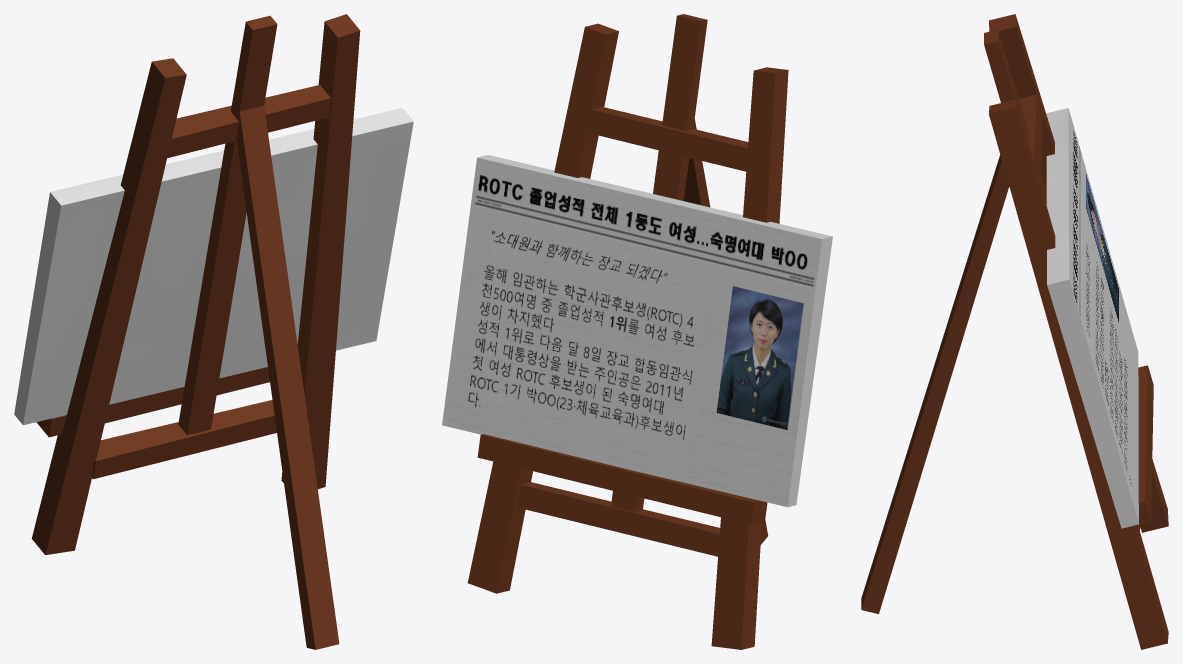
Rendered from SM_BaekjunyeonBoard.FBX.
3 renders of one model, left to right at view 1: azimuth 30°, elevation 25°; view 2: azimuth 150°, elevation 25°; view 3: azimuth 270°, elevation 25°, orthographic. The views are drawn at different scales.
Visible parts, largest first — view 1: Box002; view 2: Box002; view 3: Box002.
Boxes of the visible parts, bbox=[...] form: Box002: bbox=[14, 14, 413, 649]; Box002: bbox=[442, 14, 832, 649]; Box002: bbox=[861, 14, 1168, 649].
Size of the model in its own units: 58.94 by 92.67 by 45.07.
Materials: 2 (1 with a texture image).
